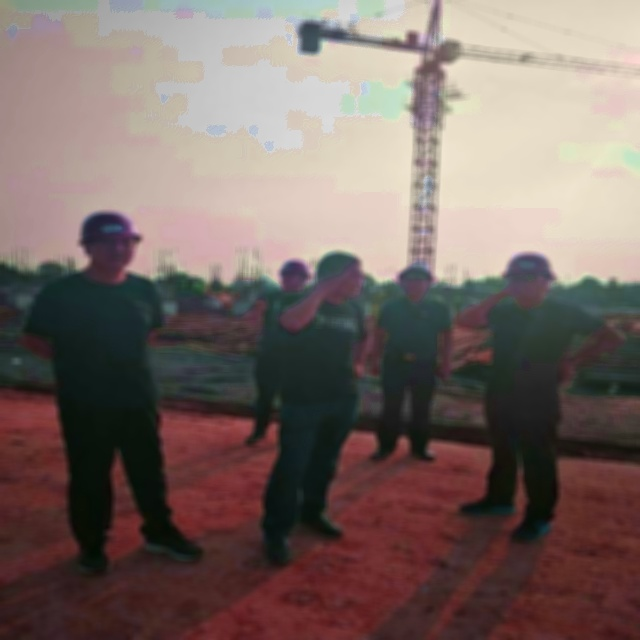Con_Casco: (74, 211, 142, 272), (502, 252, 558, 300)
Sin_Casco_Mascarrilla: (311, 250, 365, 299)
